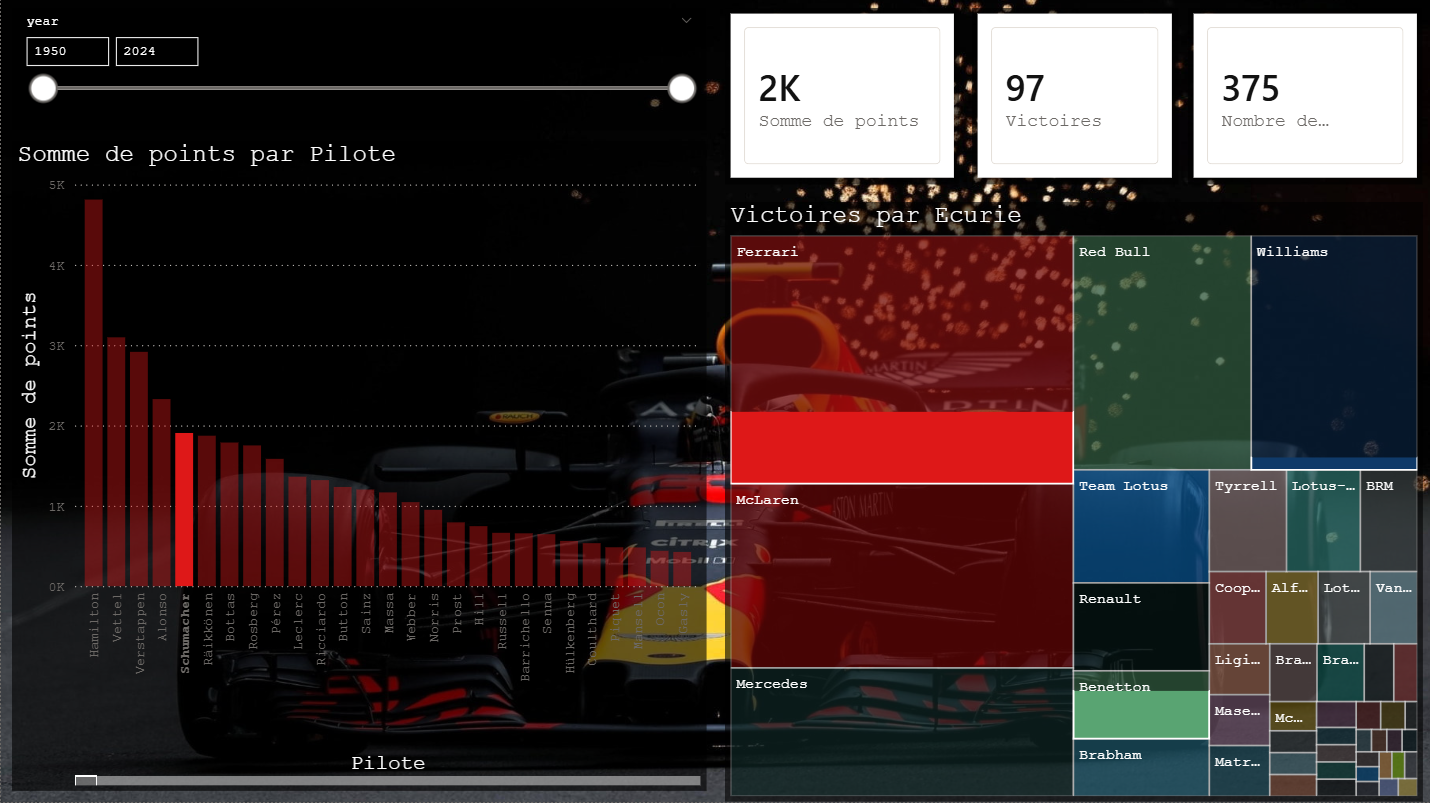

This screenshot's page, from the dashboard's own definition file:
{"tool":"powerbi","page":{"name":"Page 1","canvas":[1280,720],"ordinal":0},"visuals":[{"type":"clusteredColumnChart","fields":{"Y":["Sum(results.points)"],"Category":["drivers.surname"]},"box":[9.7,128.4,621.5,581.6],"z":0},{"type":"slicer","fields":{"Values":["races.year"]},"box":[9.7,8.8,621.5,109.9],"z":1000},{"type":"treemap","fields":{"Group":["constructors.name"],"Values":["results.Victoires"]},"box":[648.4,182.7,625.1,537.3],"z":2000},{"type":"cardVisual","fields":{"Data":["Sum(results.points)"]},"box":[648.8,8.8,210.1,157.6],"z":3000},{"type":"cardVisual","fields":{"Data":["results.Victoires"]},"box":[869.5,8.8,184.8,157.6],"z":4000},{"type":"cardVisual","fields":{"Data":["Count(results.raceId)"]},"box":[1063.1,8.8,210.1,157.6],"z":5000}]}

Visuals, with their boxes in screenshot pixels (x1, y1, x2, y2), scaled from the page's 1280x720 canvas onto the 1430x803 screenshot:
clusteredColumnChart - Sum(results.points) x drivers.surname: 11 143 705 792
slicer - races.year: 11 10 705 132
treemap - constructors.name x results.Victoires: 724 204 1423 802
cardVisual - Sum(results.points): 725 10 960 186
cardVisual - results.Victoires: 971 10 1178 186
cardVisual - Count(results.raceId): 1188 10 1422 186
